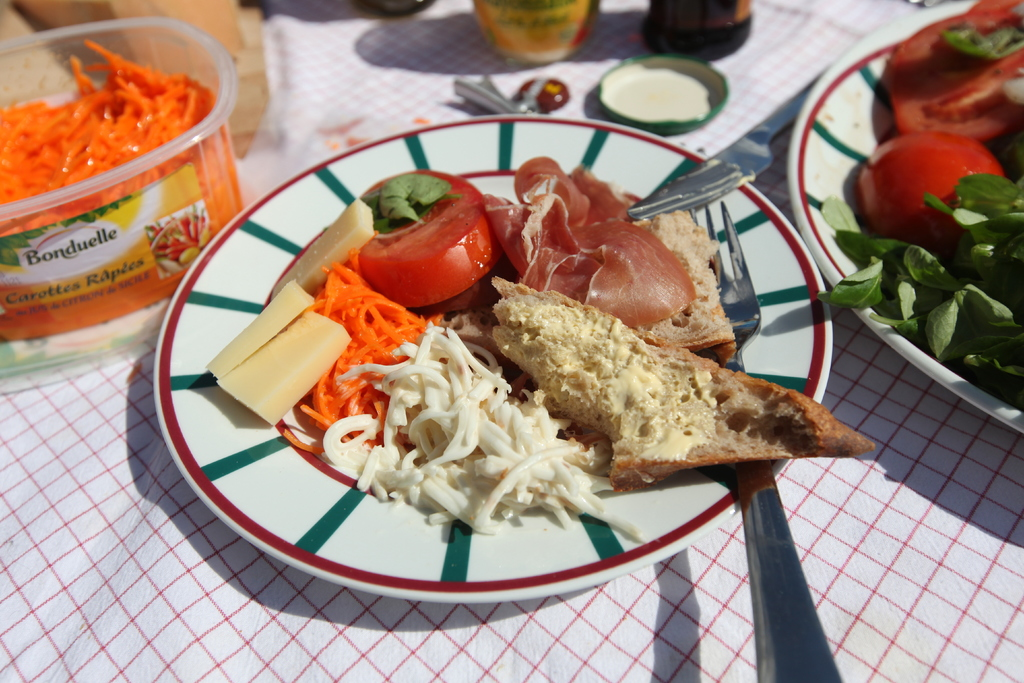Carrot: (6, 44, 184, 224)
